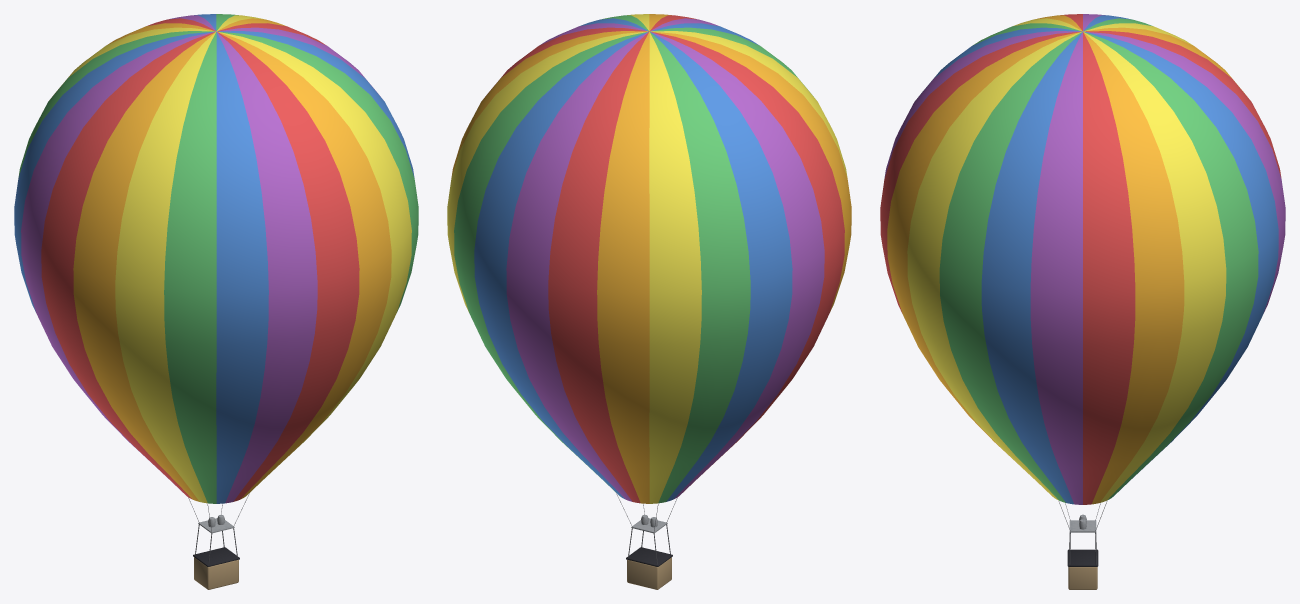
Rendered from balloon_rainbow.gltf.
The picture shows the model from 3 angles, left to right: view 1: azimuth 30°, elevation 25°; view 2: azimuth 150°, elevation 25°; view 3: azimuth 270°, elevation 25°; orthographic projection.
Parts seen in each view (by area): view 1: balloon_rainbow; view 2: balloon_rainbow; view 3: balloon_rainbow.
Boxes of the visible parts, x1,y1,x2,y2 form: balloon_rainbow: (14, 14, 418, 589); balloon_rainbow: (447, 14, 851, 589); balloon_rainbow: (880, 14, 1285, 589).
Bounding box in the file's own units: 16.77 × 25.17 × 16.77.
Materials: 11 (3 with a texture image).
